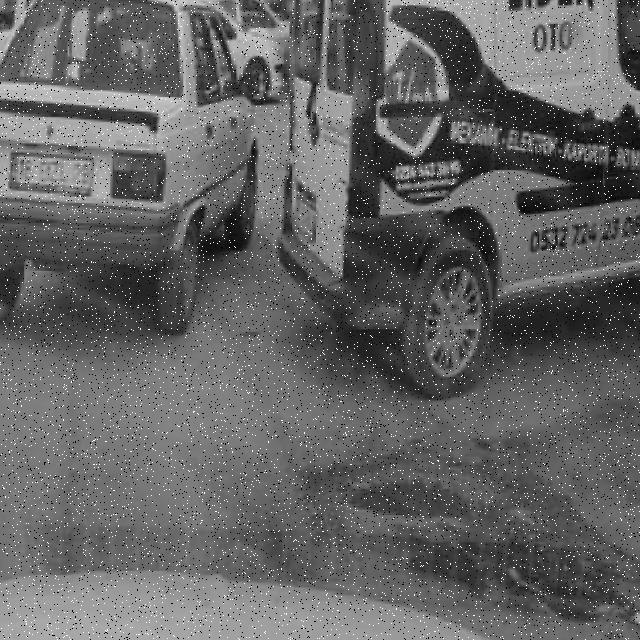pothole: (317, 463, 509, 534)
